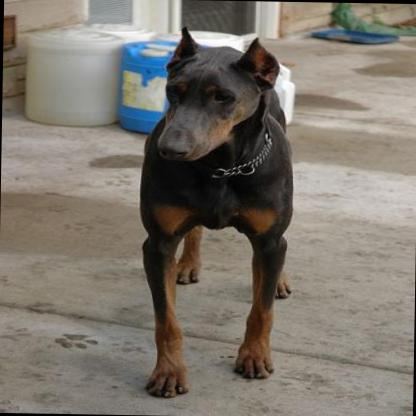Doberman: (134, 23, 297, 400)
